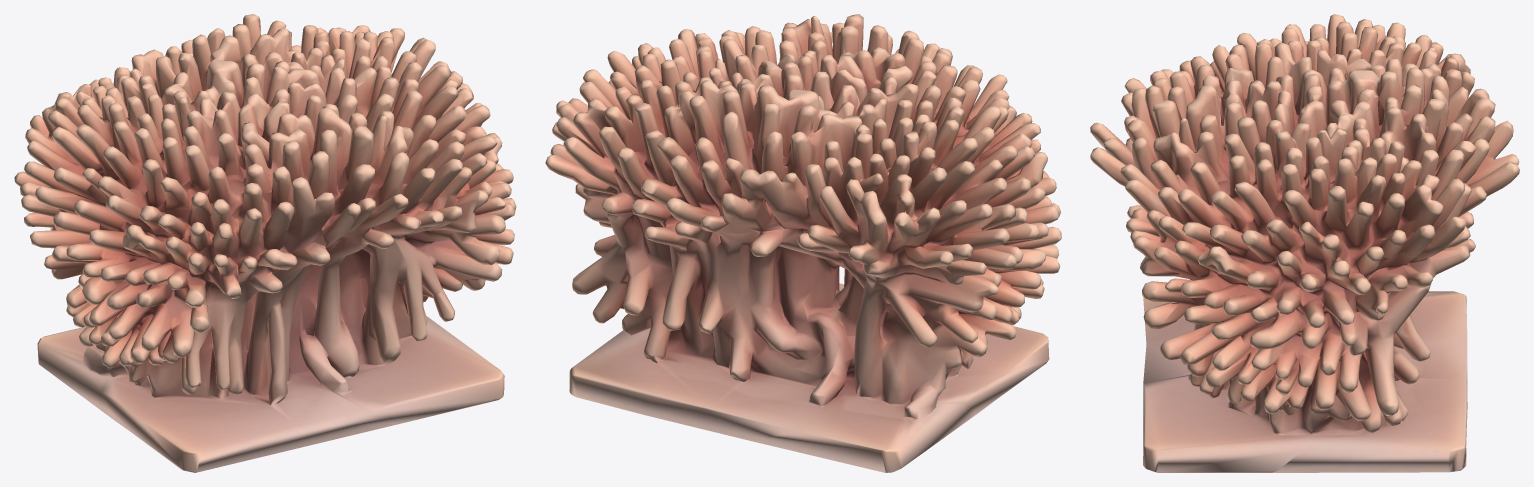
File: Part_VillusCluster.glb
3 renders of one model, left to right at view 1: azimuth 30°, elevation 25°; view 2: azimuth 150°, elevation 25°; view 3: azimuth 270°, elevation 25°, orthographic. The views are drawn at different scales.
Size of the model in its own units: 1.9 by 1.28 by 1.55.
Materials: 1 (1 with a texture image).
